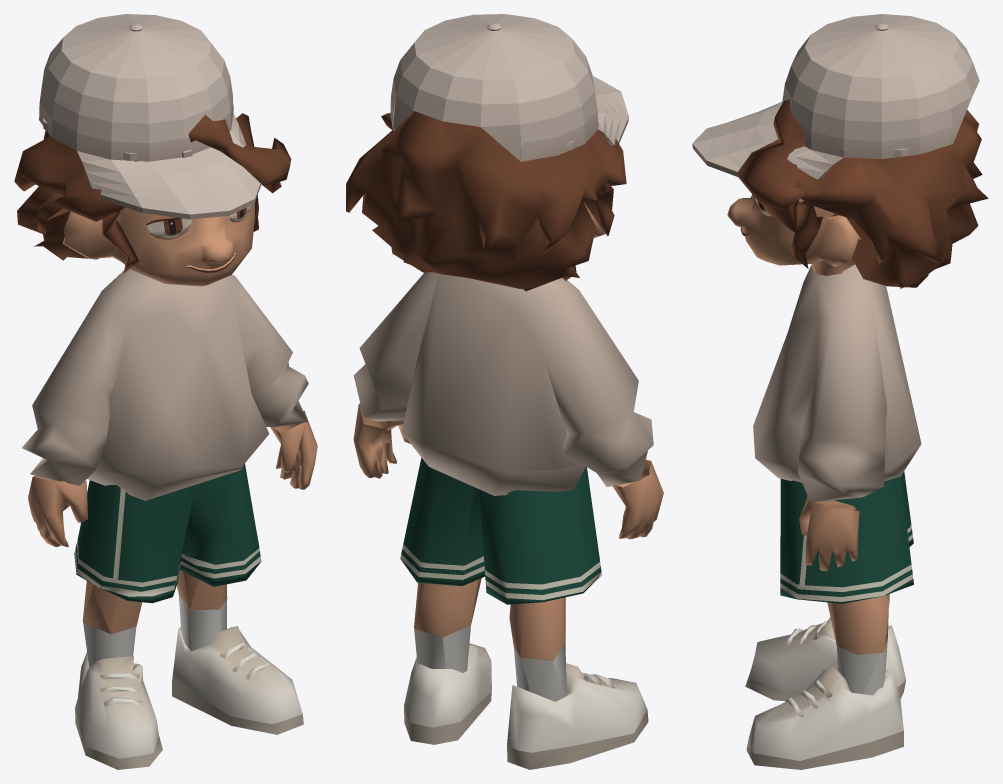
Rendered from host_q_tripo_p20_r2s3_capped.glb.
3 views of the same model, side by side, from view 1: azimuth 30°, elevation 25°; view 2: azimuth 150°, elevation 25°; view 3: azimuth 270°, elevation 25° (orthographic). The views are drawn at different scales.
Visible parts, largest first — view 1: HostBody, HostCap; view 2: HostBody, HostCap; view 3: HostBody, HostCap.
Part boxes in pixels (x1,y1,x2,y2): HostBody: [14, 113, 317, 769]; HostCap: [39, 14, 261, 219]; HostBody: [346, 111, 663, 769]; HostCap: [390, 14, 628, 161]; HostBody: [727, 99, 988, 769]; HostCap: [692, 14, 979, 179].
Bounding box in the file's own units: 0.5683 × 1.32 × 0.5138.
